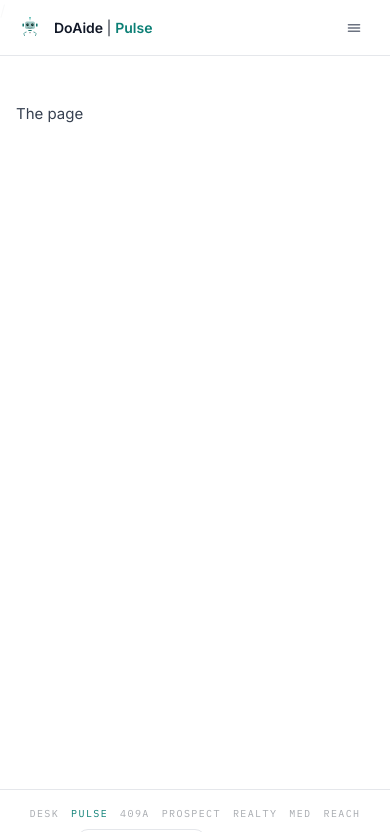
the mobile menu › closes itself when the user navigates
Click the button named "Toggle navigation menu" at (354, 28), box [330,4,378,52]
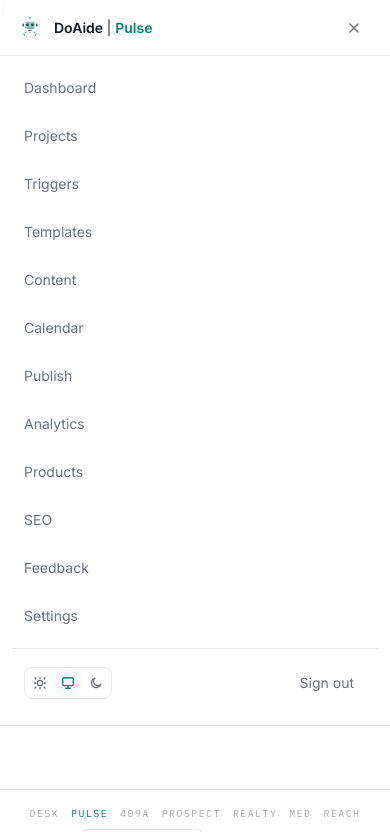
Click the link "Calendar" at (54, 328), box [24,319,84,336]
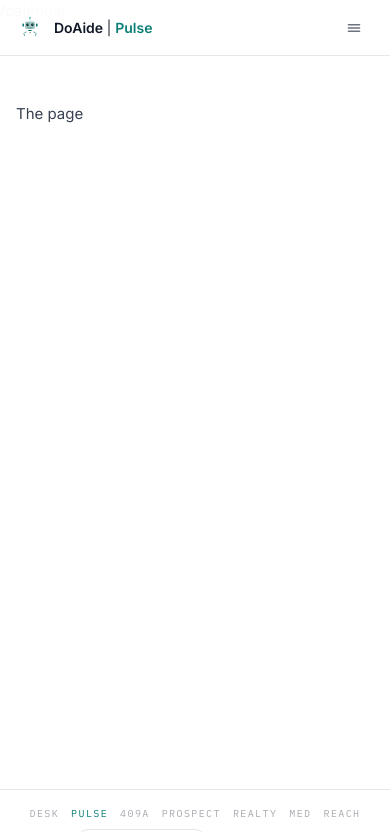
Result: the navigation bar with id "mobile-nav" is gone
